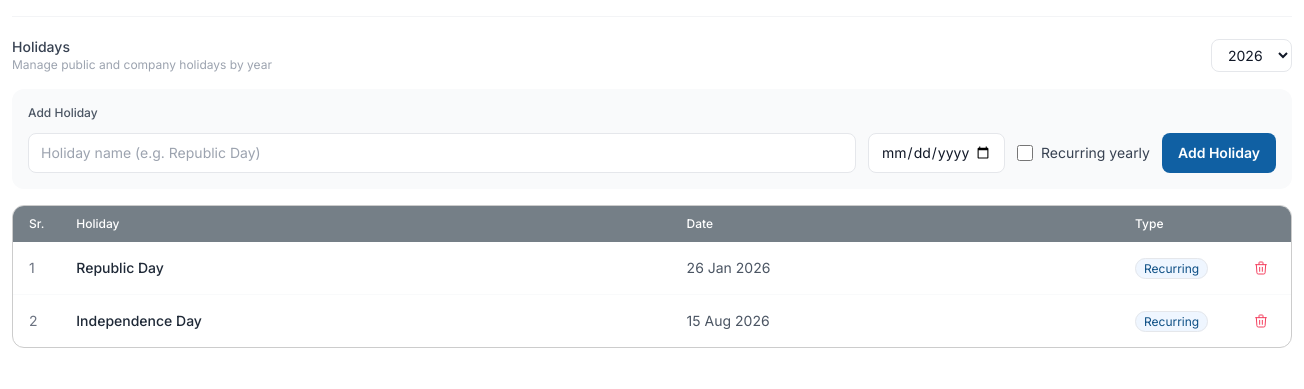
Scenario: HolidaySection › HolidaySection_NameWithoutDate_ShowsDateValidationError
expect the text "Republic Day" is shown: met, box [60,242,671,294]
Type "Test Holiday" into the field with placeholder "Holiday name (e.g. Republic Day)".
click(442, 153); type("Test Holiday")  # box [28,133,856,173]
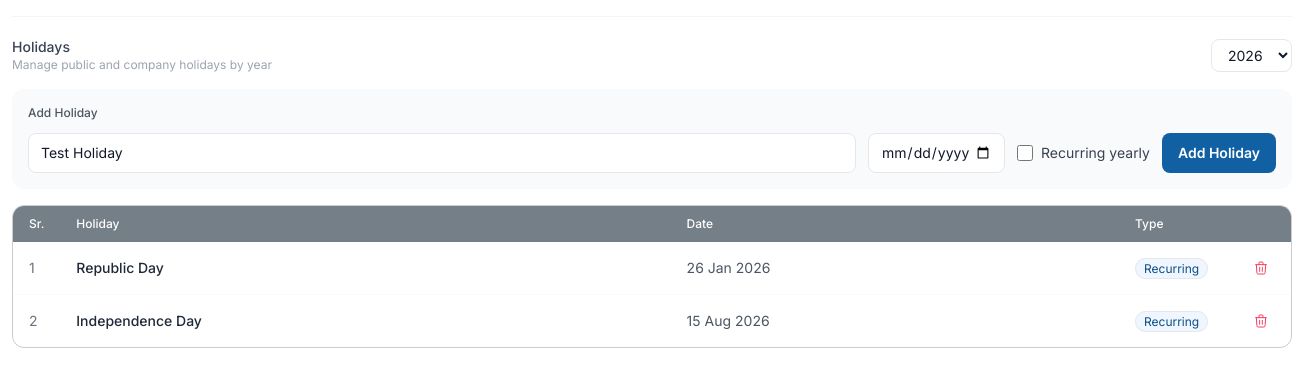
Click the button "Add Holiday".
click(1219, 153)  # box [1162,133,1276,173]
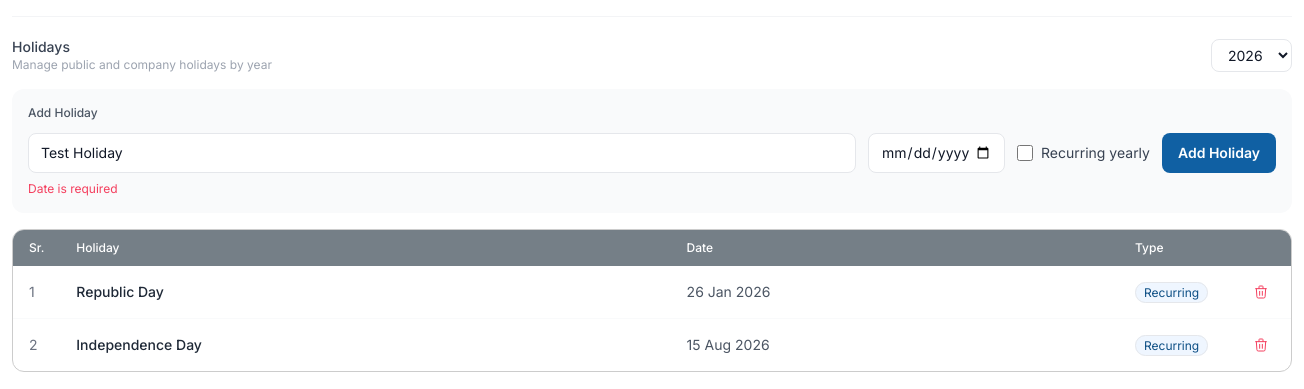
expect the text "Date is required" is shown: met, box [28,181,118,196]
